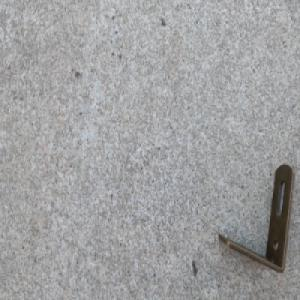MetalPart: (217, 162, 294, 274)
